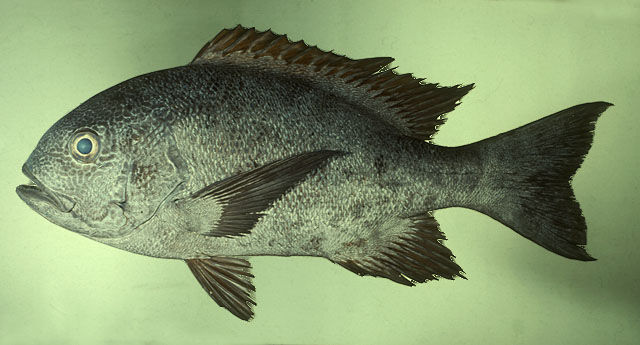fish: (15, 23, 617, 323)
